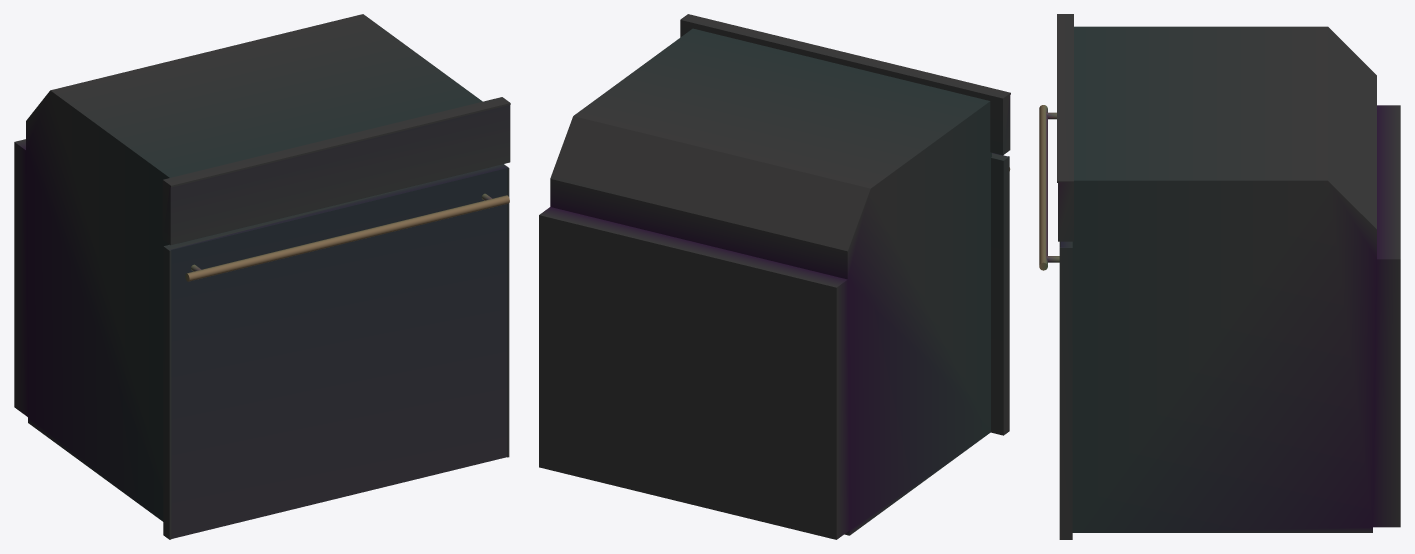
3 views of the same model, side by side, from view 1: azimuth 30°, elevation 25°; view 2: azimuth 150°, elevation 25°; view 3: azimuth 270°, elevation 25° (orthographic). The views are drawn at different scales.
Parts seen in each view (by area): view 1: panel, carcass, band, rail; view 2: carcass, band, panel; view 3: carcass, panel, band, rail.
Part boxes in pixels (x1,y1,x2,y2): panel: (163,164,509,539); carcass: (14,14,488,521); band: (162,97,510,245); rail: (185,193,509,281); carcass: (539,28,991,539); band: (680,14,1010,155); panel: (991,153,1009,435); carcass: (1072,26,1400,532); panel: (1059,241,1072,539); band: (1057,14,1073,241); rail: (1039,105,1059,270).
Bounding box in the file's own units: 0.6 × 0.5995 × 0.5474.
